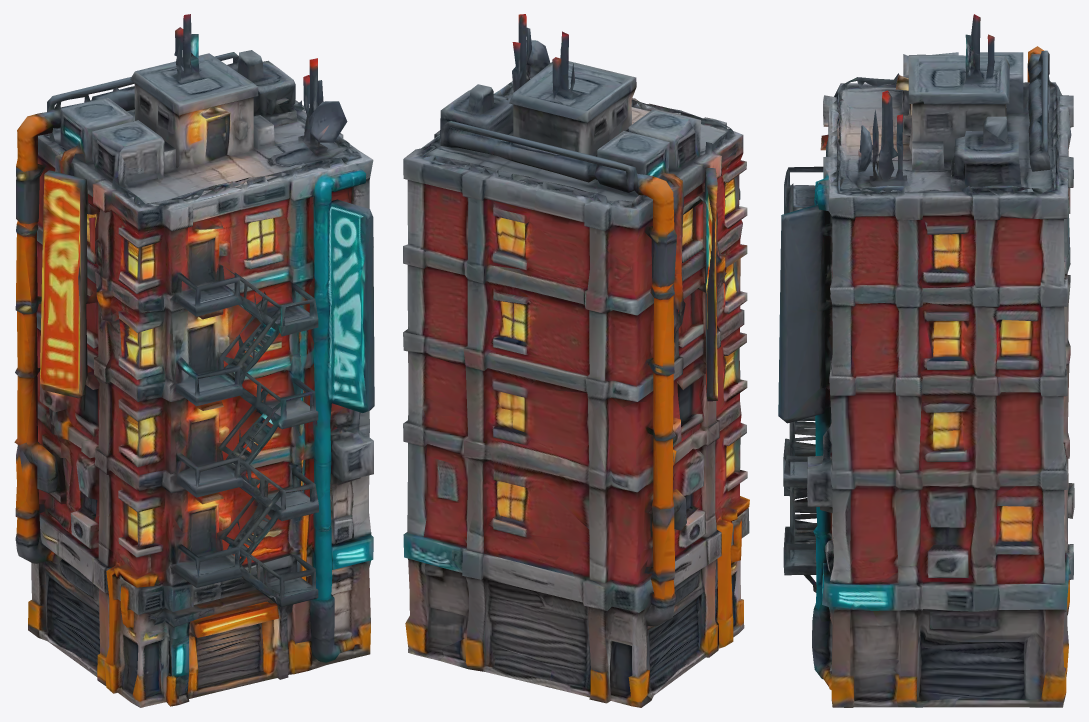
Rendered from env-building-4.glb.
3 views of the same model, side by side, from view 1: azimuth 30°, elevation 25°; view 2: azimuth 150°, elevation 25°; view 3: azimuth 270°, elevation 25° (orthographic). The views are drawn at different scales.
Visible parts, largest first — view 1: env-building-4; view 2: env-building-4; view 3: env-building-4.
Boxes of the visible parts, x1,y1,x2,y2 form: env-building-4: (14,14,374,707); env-building-4: (403,14,749,707); env-building-4: (778,14,1074,707).
Bounding box in the file's own units: 6.76 × 14.78 × 6.25.
Materials: 1 (1 with a texture image).
